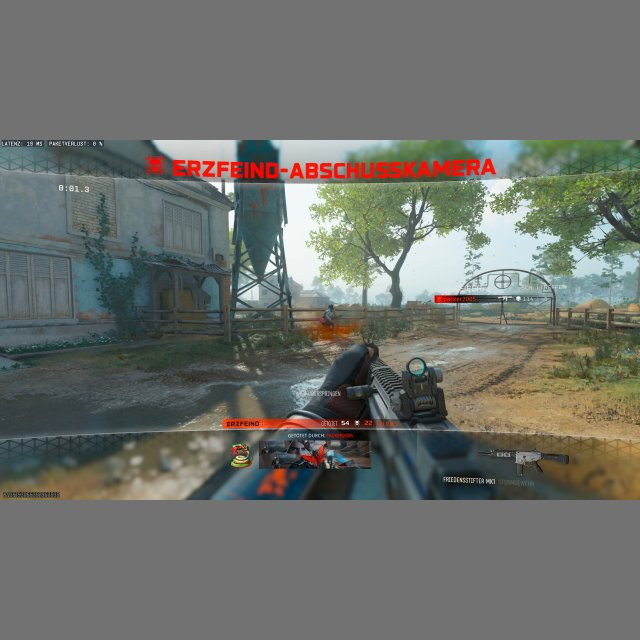player: (320, 302, 336, 330)
